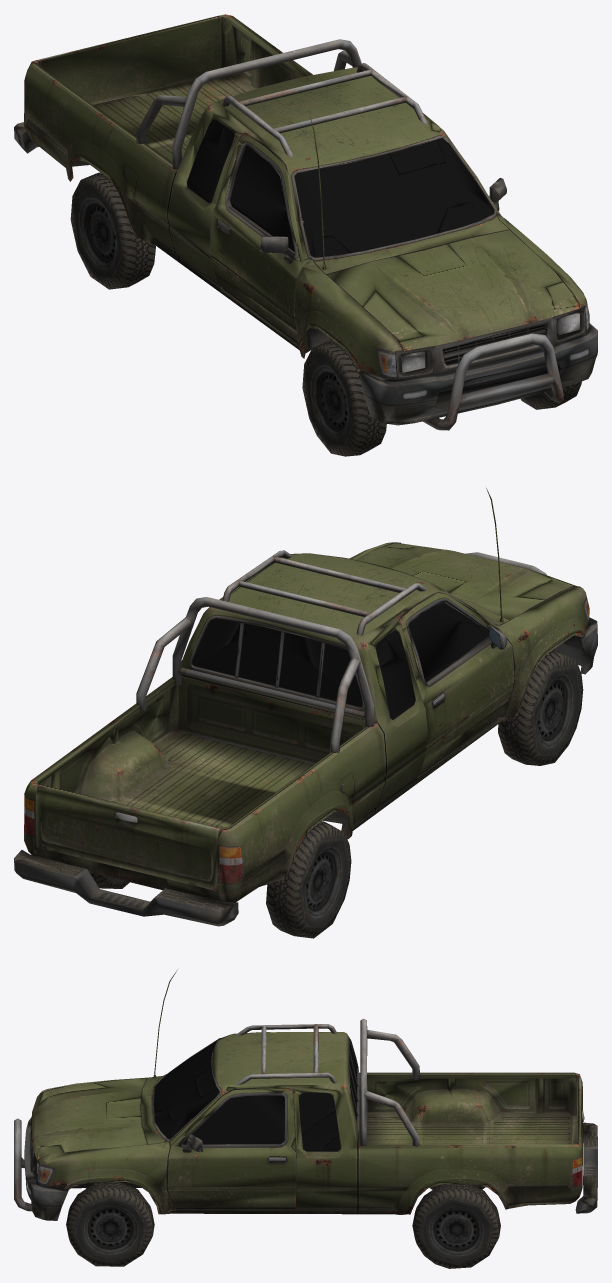
Rendered from pickup_truck.lod0.glb.
3 renders of one model, top to bottom at view 1: azimuth 30°, elevation 25°; view 2: azimuth 150°, elevation 25°; view 3: azimuth 270°, elevation 25°, orthographic. The views are drawn at different scales.
Visible parts, largest first — view 1: pickup body_vehicle_0, pickup body_windowss_0, door_FR_pic, door_FL_pic; view 2: pickup body_vehicle_0, door_FR_pic, pickup body_windowss_0; view 3: pickup body_vehicle_0, door_FL_pic, pickup body_windowss_0.
Part boxes in pixels (<box>): pickup body_vehicle_0: <box>14,14,597,456</box>; pickup body_windowss_0: <box>187,119,493,257</box>; door_FR_pic: <box>209,146,313,343</box>; door_FL_pic: <box>446,134,506,217</box>; pickup body_vehicle_0: <box>14,488,597,938</box>; door_FR_pic: <box>404,595,513,777</box>; pickup body_windowss_0: <box>192,603,470,719</box>; pickup body_vehicle_0: <box>14,969,597,1268</box>; door_FL_pic: <box>167,1095,296,1210</box>; pickup body_windowss_0: <box>153,1039,356,1151</box>.
Size of the model in its own units: 2.18 by 2.61 by 6.01.
3 materials, 2 textured.
